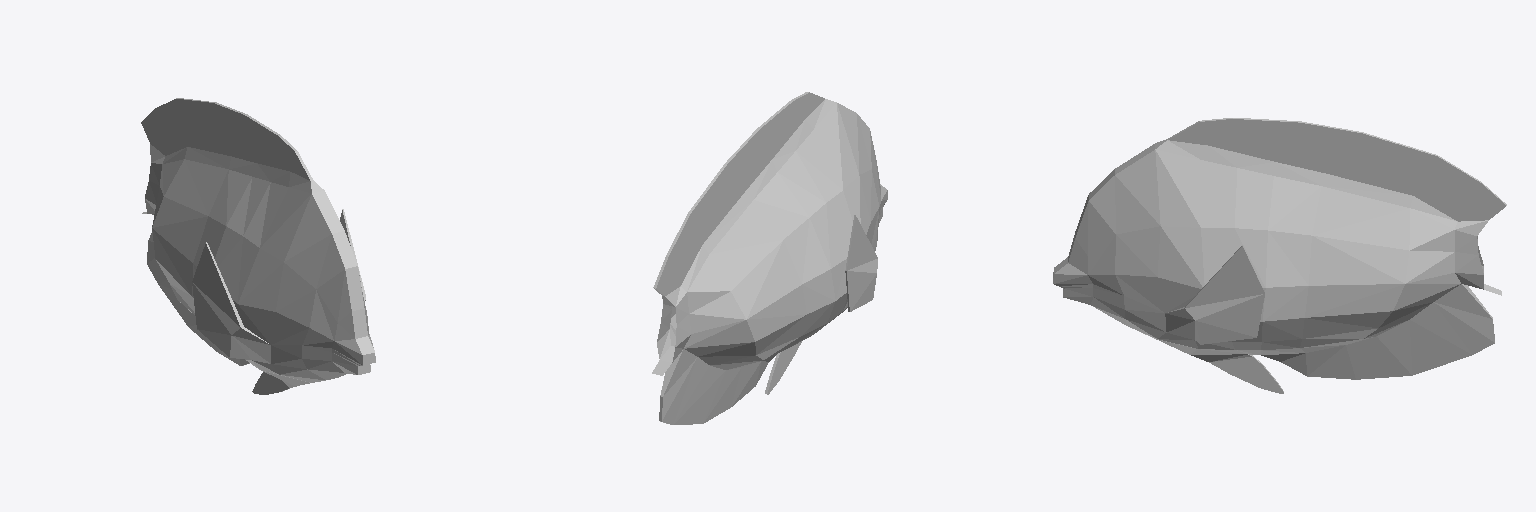
Rendered from PezCu11.obj.
3 views of the same model, side by side, from view 1: azimuth 30°, elevation 25°; view 2: azimuth 150°, elevation 25°; view 3: azimuth 270°, elevation 25° (orthographic).
Parts seen in each view (by area): view 1: polySurface3 polySurface2 TropicalFish04:TropicalFish04; view 2: polySurface3 polySurface2 TropicalFish04:TropicalFish04; view 3: polySurface3 polySurface2 TropicalFish04:TropicalFish04.
Boxes of the visible parts, box(x1,y1,x2,y2) form: polySurface3 polySurface2 TropicalFish04:TropicalFish04: box(141, 98, 375, 394); polySurface3 polySurface2 TropicalFish04:TropicalFish04: box(652, 92, 887, 424); polySurface3 polySurface2 TropicalFish04:TropicalFish04: box(1053, 118, 1506, 393).
Size of the model in its own units: 2.84 by 5.24 by 7.82.